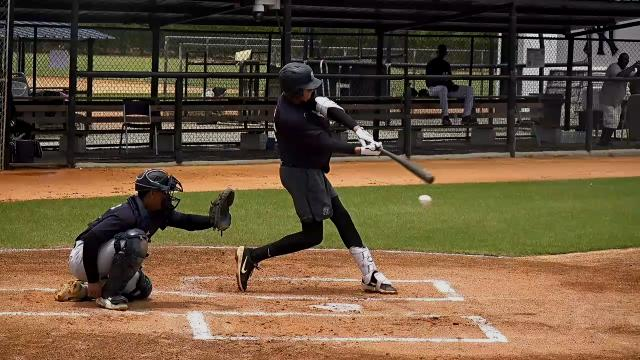baseball bat: (376, 146, 436, 182)
sports ball: (418, 195, 434, 206)
